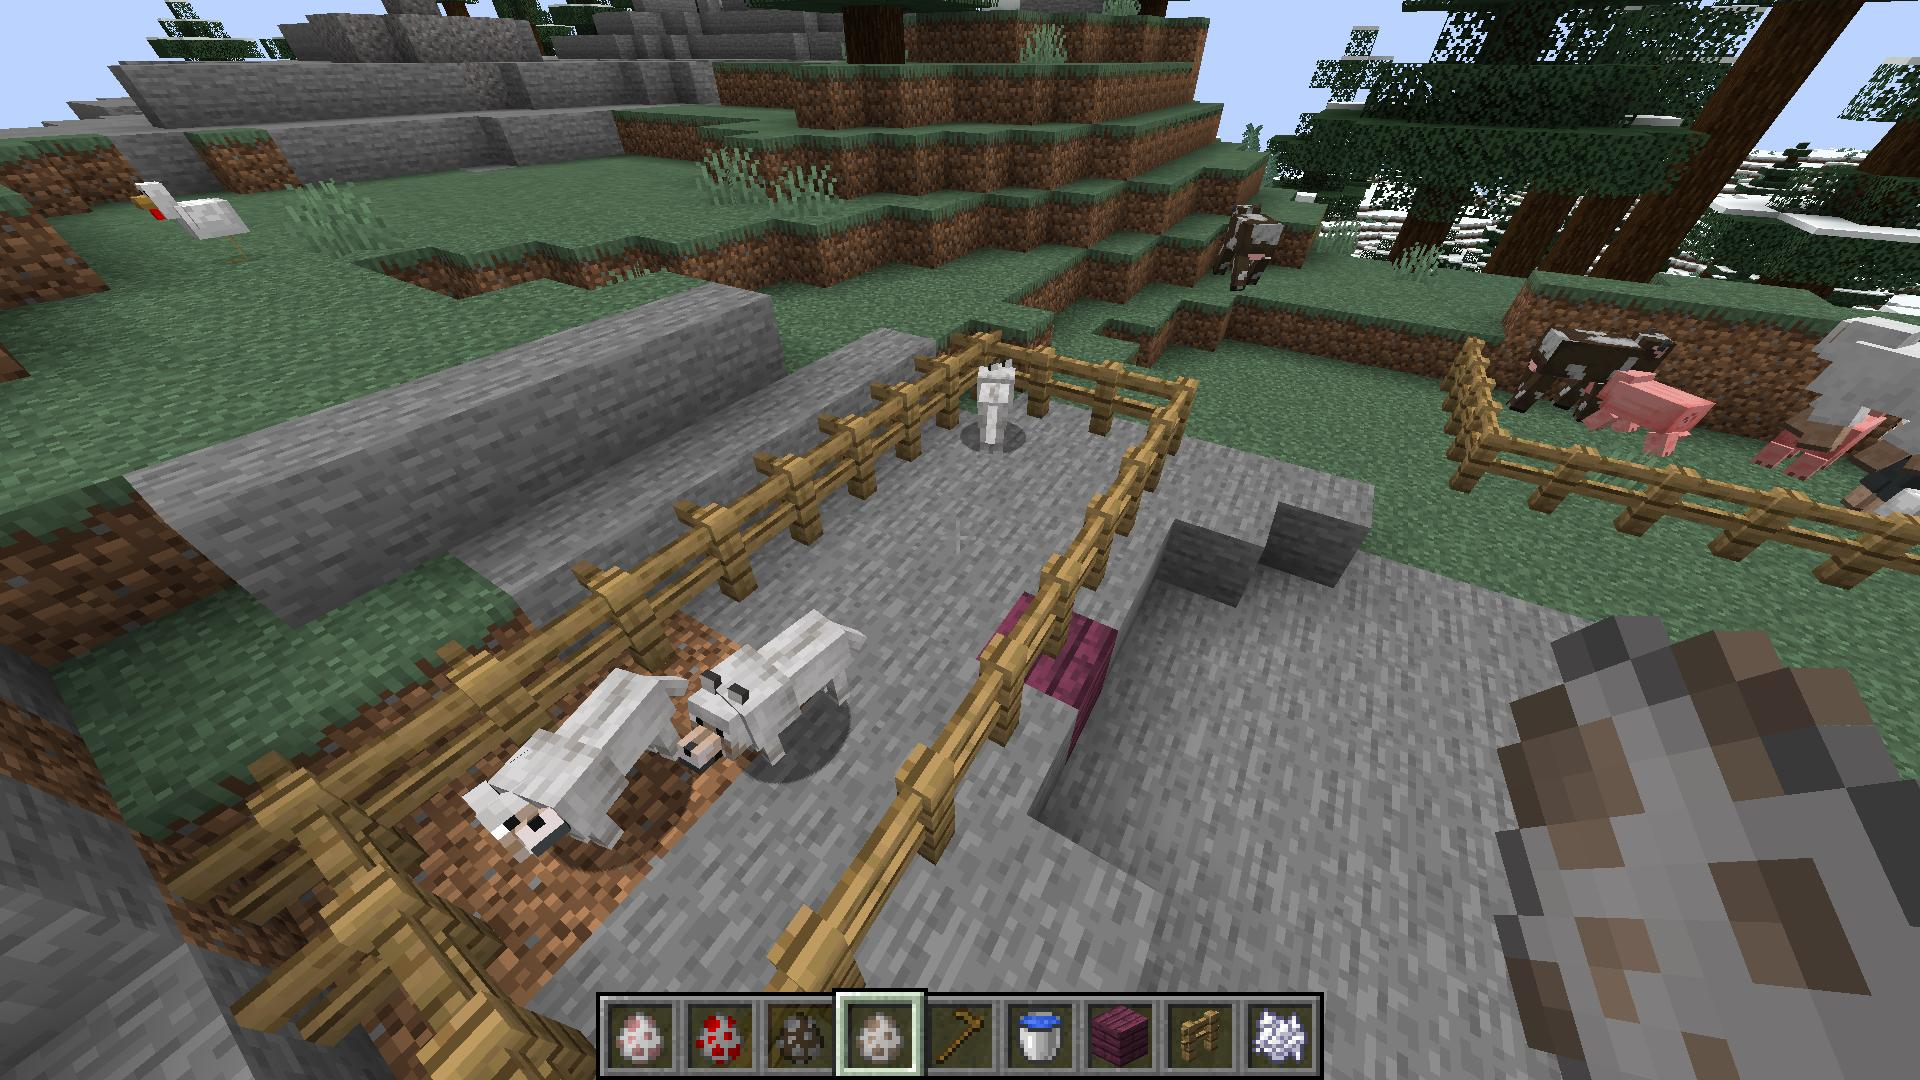wolf: (471, 684, 676, 874), (691, 609, 864, 769), (964, 363, 1042, 452)
